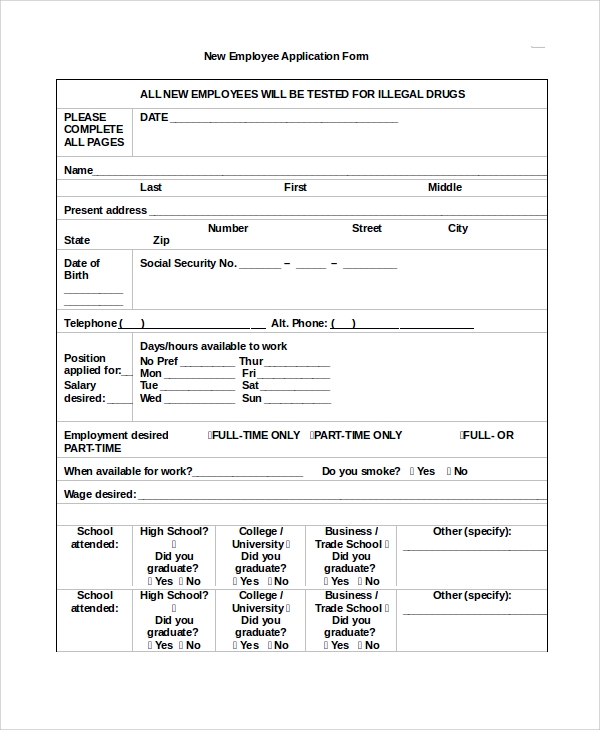table: (56, 79, 547, 651)
